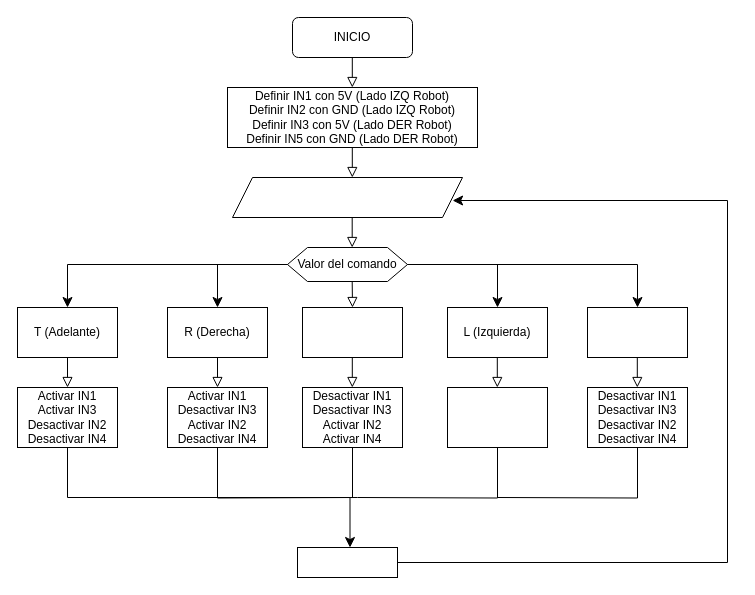
The diagram is 755 pixels wide and 595 high, and some of its shapes have lost their labels. The centre of each missing label's shape, as x and y in pixels:
"D (Atrás)" goes at pixel 352 332.
"Delay 1000 ms" goes at pixel 347 562.
"Desactivar IN1 Activar IN3 Desactivar IN2 Activar IN4" goes at pixel 497 417.
"Recibe comando (Desde módulo Wifi)" goes at pixel 347 197.
"S (Detener)" goes at pixel 637 332.
